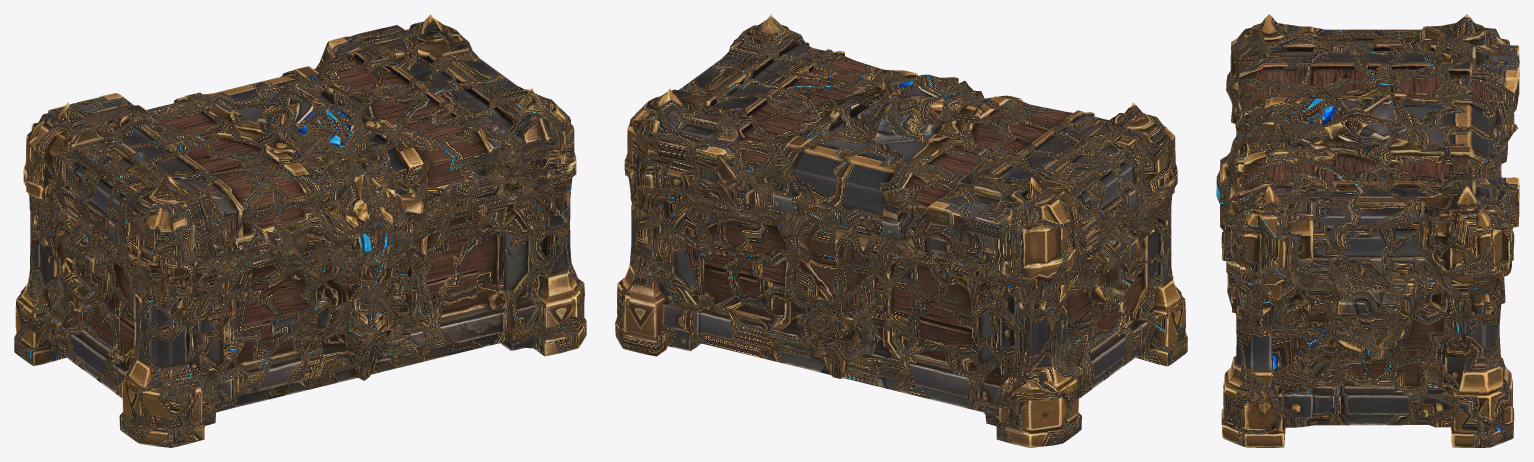
File: chest.glb
3 views of the same model, side by side, from view 1: azimuth 30°, elevation 25°; view 2: azimuth 150°, elevation 25°; view 3: azimuth 270°, elevation 25° (orthographic). The views are drawn at different scales.
Bounding box in the file's own units: 1.9 × 1.03 × 1.14.
1 material, 1 textured.
